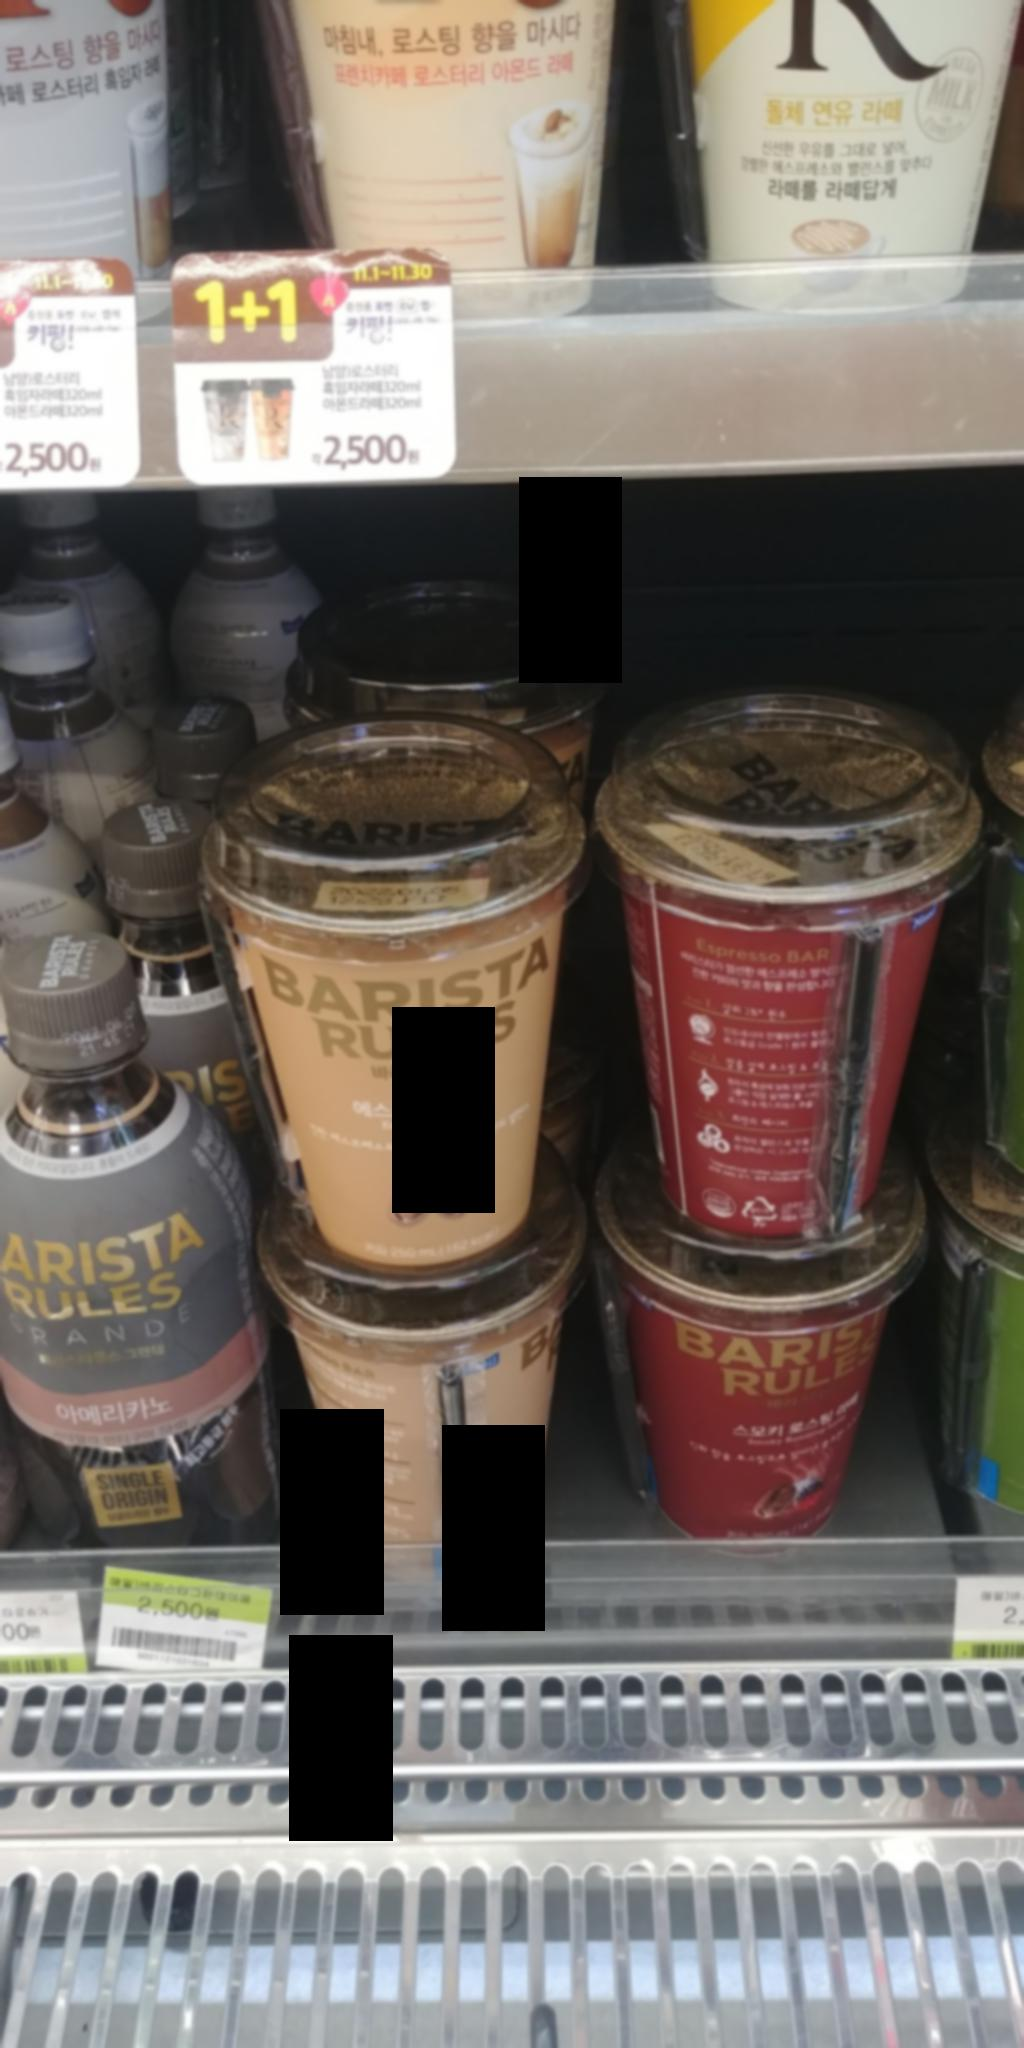baristarules_espressolatte: (188, 728, 602, 1268), (204, 1266, 622, 1570)
